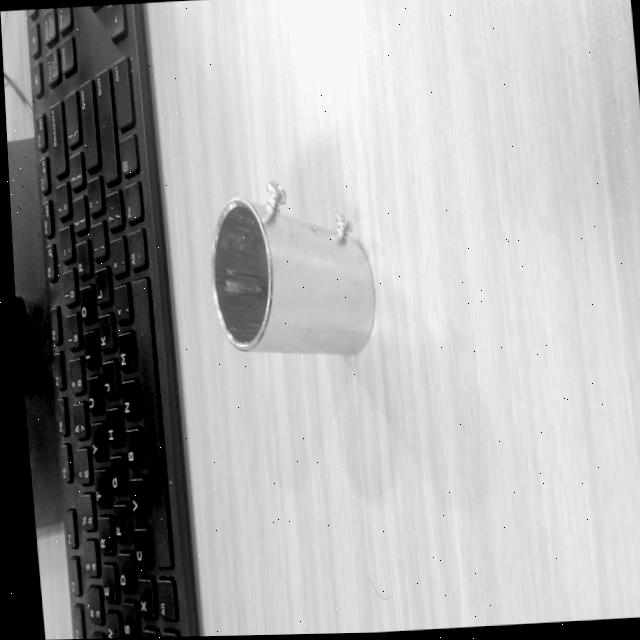Co_Lon: (207, 179, 377, 356)
